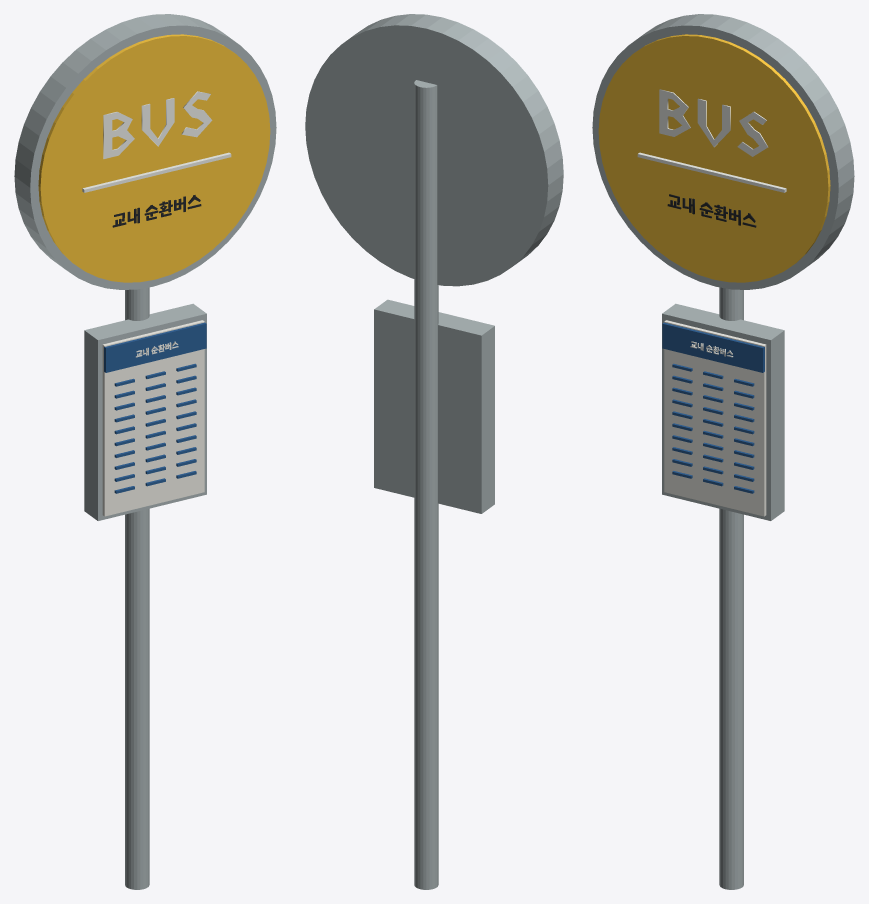
The model's file is bus_stop_generic.glb.
3 views of the same model, side by side, from view 1: azimuth 30°, elevation 25°; view 2: azimuth 150°, elevation 25°; view 3: azimuth 330°, elevation 25° (orthographic).
Visible parts, largest first — view 1: Circular yellow BUS face.001, CHOSUN_BUS_STOP_GENERIC__Brushed aluminium, Timetable white face.001, CHOSUN_BUS_STOP_GENERIC__Campus blue, CHOSUN_BUS_STOP_GENERIC__Coach pearl ivory, Generic circulation label; view 2: CHOSUN_BUS_STOP_GENERIC__Brushed aluminium; view 3: Circular yellow BUS face.001, CHOSUN_BUS_STOP_GENERIC__Brushed aluminium, Timetable white face.001, CHOSUN_BUS_STOP_GENERIC__Campus blue, CHOSUN_BUS_STOP_GENERIC__Coach pearl ivory, Generic circulation label.
Boxes of the visible parts, left/top/right/bottom form: Circular yellow BUS face.001: left=38, top=34, right=270, bottom=282; CHOSUN_BUS_STOP_GENERIC__Brushed aluminium: left=14, top=14, right=276, bottom=889; Timetable white face.001: left=102, top=320, right=204, bottom=516; CHOSUN_BUS_STOP_GENERIC__Campus blue: left=104, top=322, right=206, bottom=493; CHOSUN_BUS_STOP_GENERIC__Coach pearl ivory: left=82, top=91, right=231, bottom=357; Generic circulation label: left=112, top=195, right=201, bottom=227; CHOSUN_BUS_STOP_GENERIC__Brushed aluminium: left=305, top=14, right=563, bottom=889; Circular yellow BUS face.001: left=598, top=34, right=830, bottom=282; CHOSUN_BUS_STOP_GENERIC__Brushed aluminium: left=592, top=14, right=854, bottom=889; Timetable white face.001: left=664, top=320, right=766, bottom=516; CHOSUN_BUS_STOP_GENERIC__Campus blue: left=662, top=322, right=764, bottom=493; CHOSUN_BUS_STOP_GENERIC__Coach pearl ivory: left=637, top=89, right=786, bottom=357; Generic circulation label: left=667, top=194, right=756, bottom=227.
Size of the model in its own units: 1.04 by 3.5 by 0.195.
